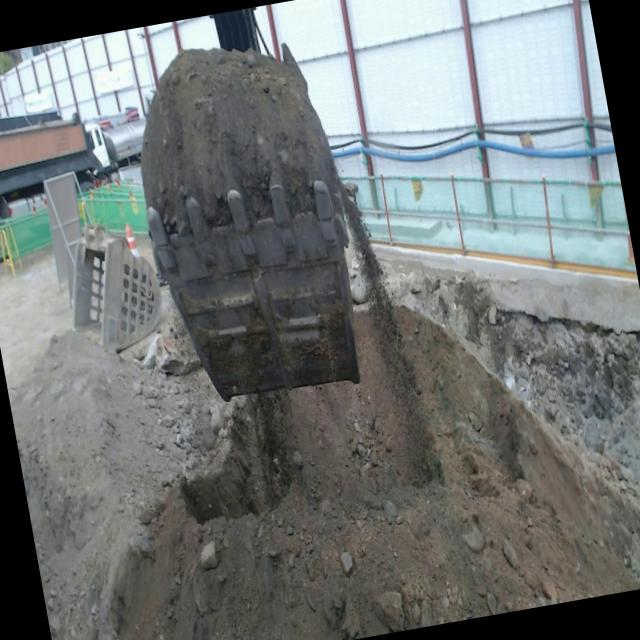white-sand: (0, 251, 640, 640), (142, 48, 339, 231)
